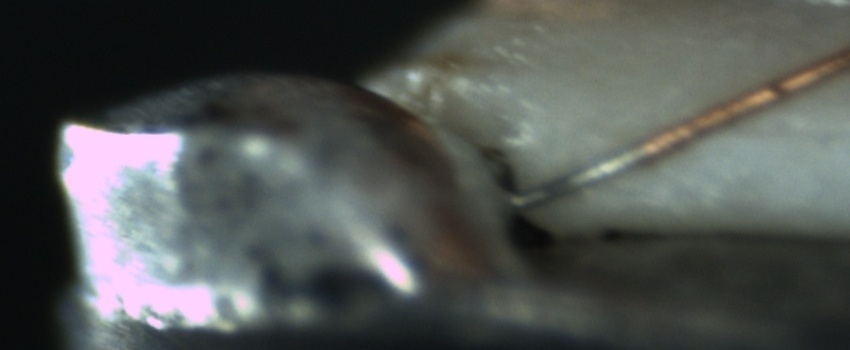DL: (692, 100, 850, 160)
TS: (508, 144, 651, 208)
